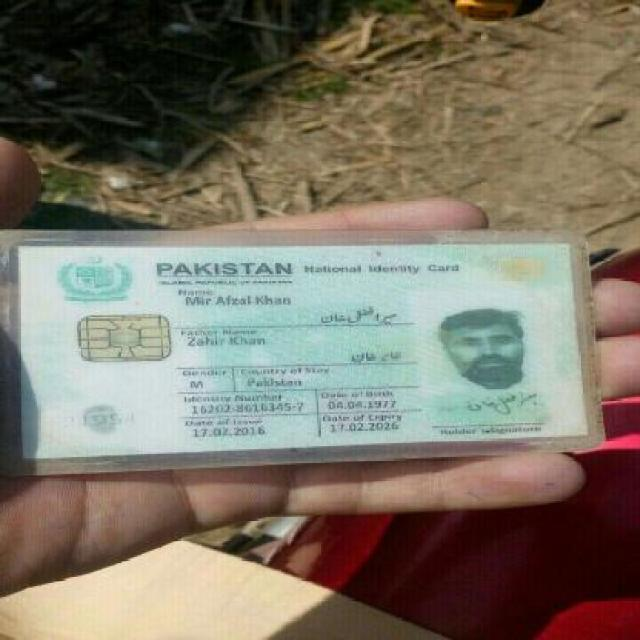Front: (8, 238, 602, 456)
